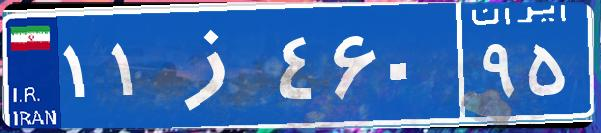0: (385, 28, 445, 110)
1: (57, 26, 110, 107), (110, 28, 158, 105)
4: (273, 28, 330, 110)
5: (525, 38, 570, 115)
6: (330, 28, 385, 110)
9: (475, 38, 525, 113)
ز: (158, 15, 273, 115)
